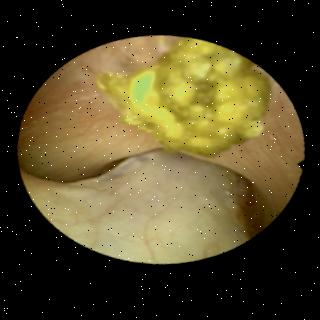stone: (95, 40, 269, 158)
tissue: (23, 44, 297, 258)
